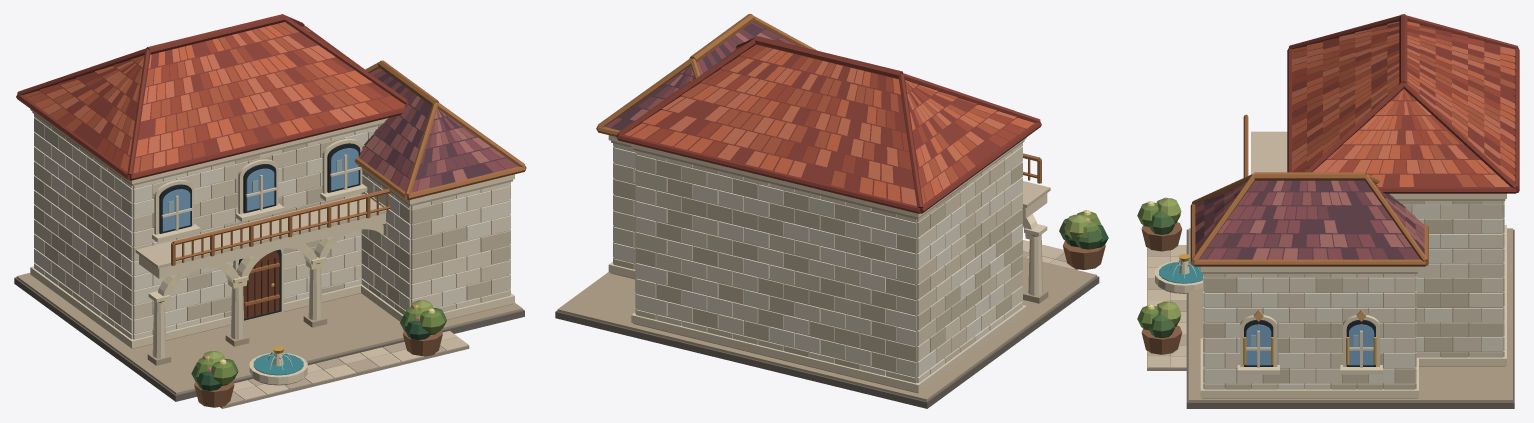
File: noble-nivel-5.glb
3 renders of one model, left to right at view 1: azimuth 30°, elevation 25°; view 2: azimuth 150°, elevation 25°; view 3: azimuth 270°, elevation 25°, orthographic. The views are drawn at different scales.
Visible parts, largest first — view 1: Casa nobre 05 #853e33, Casa nobre 05 #e6d7ba, Casa nobre 05 #b4a38a, Casa nobre 05 #eae1ce, Casa nobre 05 #e8dcc5, Casa nobre 05 #ded1b9, Casa nobre 05 #cec1a8, Casa nobre 05 #a76e42, Casa nobre 05 #9b4735, Casa nobre 05 #c06b4f, Casa nobre 05 #a8563c, Casa nobre 05 #bf6243 (+19 smaller); view 2: Casa nobre 05 #cec1a8, Casa nobre 05 #853e33, Casa nobre 05 #e8dcc5, Casa nobre 05 #eae1ce, Casa nobre 05 #ded1b9, Casa nobre 05 #b4a38a, Casa nobre 05 #c06b4f, Casa nobre 05 #e6d7ba, Casa nobre 05 #bf6243, Casa nobre 05 #a8563c, Casa nobre 05 #9b4735, Casa nobre 05 #746c62 (+7 smaller); view 3: Casa nobre 05 #853e33, Casa nobre 05 #e8dcc5, Casa nobre 05 #eae1ce, Casa nobre 05 #e6d7ba, Casa nobre 05 #cec1a8, Casa nobre 05 #b4a38a, Casa nobre 05 #c06b4f, Casa nobre 05 #bf6243, Casa nobre 05 #593b44, Casa nobre 05 #ded1b9, Casa nobre 05 #9b4735, Casa nobre 05 #a8563c (+18 smaller).
Part boxes in pixels (x1,y1,x2,y2): Casa nobre 05 #853e33: [16, 14, 408, 180]; Casa nobre 05 #e6d7ba: [30, 109, 514, 384]; Casa nobre 05 #b4a38a: [16, 111, 522, 394]; Casa nobre 05 #eae1ce: [34, 125, 510, 334]; Casa nobre 05 #e8dcc5: [34, 132, 510, 339]; Casa nobre 05 #ded1b9: [34, 114, 510, 319]; Casa nobre 05 #cec1a8: [34, 117, 510, 325]; Casa nobre 05 #a76e42: [171, 60, 526, 306]; Casa nobre 05 #9b4735: [39, 32, 404, 166]; Casa nobre 05 #c06b4f: [42, 26, 365, 168]; Casa nobre 05 #a8563c: [22, 22, 358, 173]; Casa nobre 05 #bf6243: [34, 25, 379, 171]; Casa nobre 05 #cec1a8: [613, 159, 1022, 372]; Casa nobre 05 #853e33: [616, 36, 1041, 213]; Casa nobre 05 #e8dcc5: [613, 143, 1022, 377]; Casa nobre 05 #eae1ce: [613, 147, 1022, 382]; Casa nobre 05 #ded1b9: [613, 143, 1022, 383]; Casa nobre 05 #b4a38a: [557, 140, 1096, 401]; Casa nobre 05 #c06b4f: [662, 48, 1016, 205]; Casa nobre 05 #e6d7ba: [608, 135, 1047, 392]; Casa nobre 05 #bf6243: [624, 50, 1034, 201]; Casa nobre 05 #a8563c: [681, 47, 998, 204]; Casa nobre 05 #9b4735: [646, 44, 1025, 186]; Casa nobre 05 #746c62: [555, 276, 1099, 408]; Casa nobre 05 #853e33: [1287, 14, 1519, 193]; Casa nobre 05 #e8dcc5: [1203, 201, 1504, 389]; Casa nobre 05 #eae1ce: [1203, 201, 1504, 389]; Casa nobre 05 #e6d7ba: [1155, 193, 1506, 397]; Casa nobre 05 #cec1a8: [1203, 201, 1504, 389]; Casa nobre 05 #b4a38a: [1188, 199, 1512, 402]; Casa nobre 05 #c06b4f: [1292, 21, 1515, 186]; Casa nobre 05 #bf6243: [1292, 21, 1515, 186]; Casa nobre 05 #593b44: [1195, 180, 1424, 259]; Casa nobre 05 #ded1b9: [1203, 201, 1504, 389]; Casa nobre 05 #9b4735: [1292, 25, 1515, 186]; Casa nobre 05 #a8563c: [1292, 25, 1515, 186].
Size of the model in its own units: 9.2 by 6.36 by 8.45.
